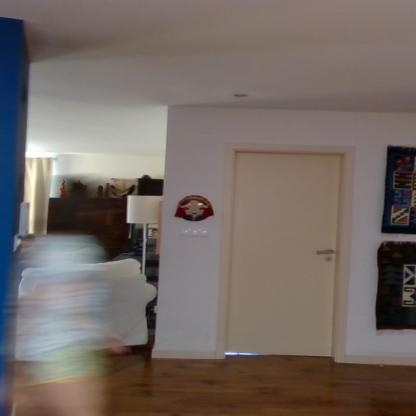door: (233, 152, 338, 357)
lever: (314, 250, 336, 256)
